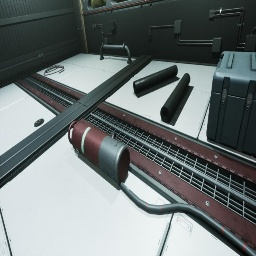NitrogenTank ,: (68, 121, 130, 184)
